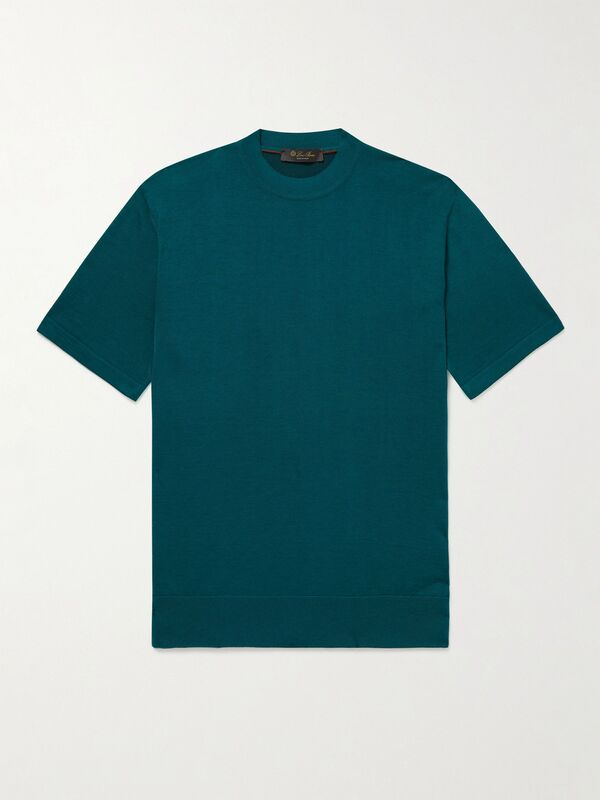tshirt: (32, 122, 567, 653)
